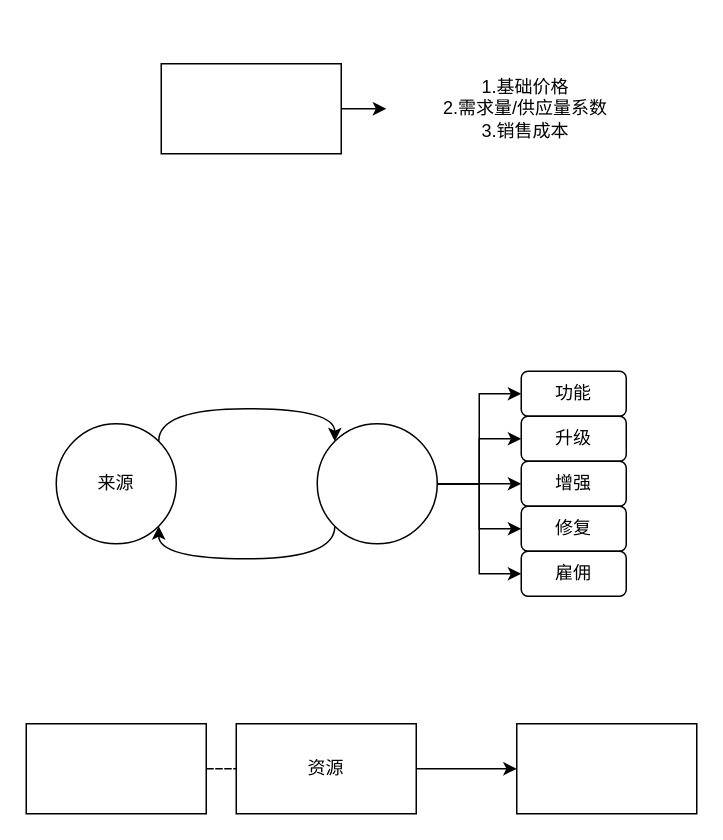
Some shapes in this 723 by 840 pixel diagram are drawn without their labels. Here are the shapes that lost their labels. From the top down, the centre of each, then its label:
At point (250, 108): "价格".
At point (376, 483): "消耗".
At point (115, 768): "货币".
At point (606, 768): "目的和用途".
